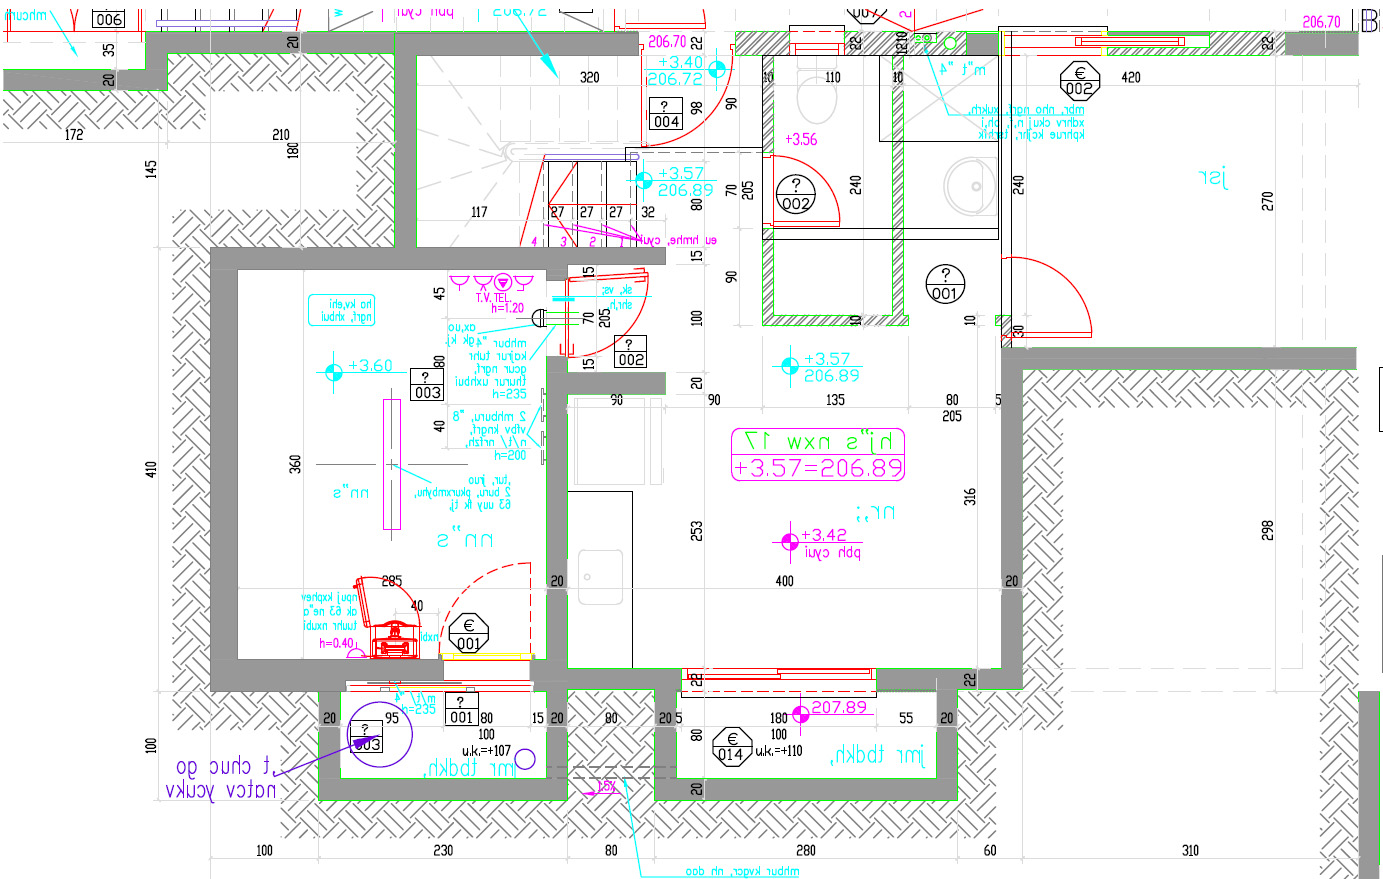wall: (210, 245, 237, 690), (211, 246, 565, 270), (1003, 348, 1356, 370), (1003, 348, 1022, 692), (396, 32, 417, 270), (211, 659, 347, 692)
